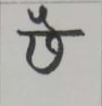ai_matra: (27, 5, 60, 30)
